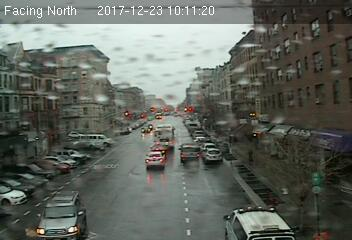car: (34, 189, 88, 239), (179, 143, 200, 164), (144, 151, 165, 170), (202, 148, 223, 165)
police: (219, 202, 297, 240)
